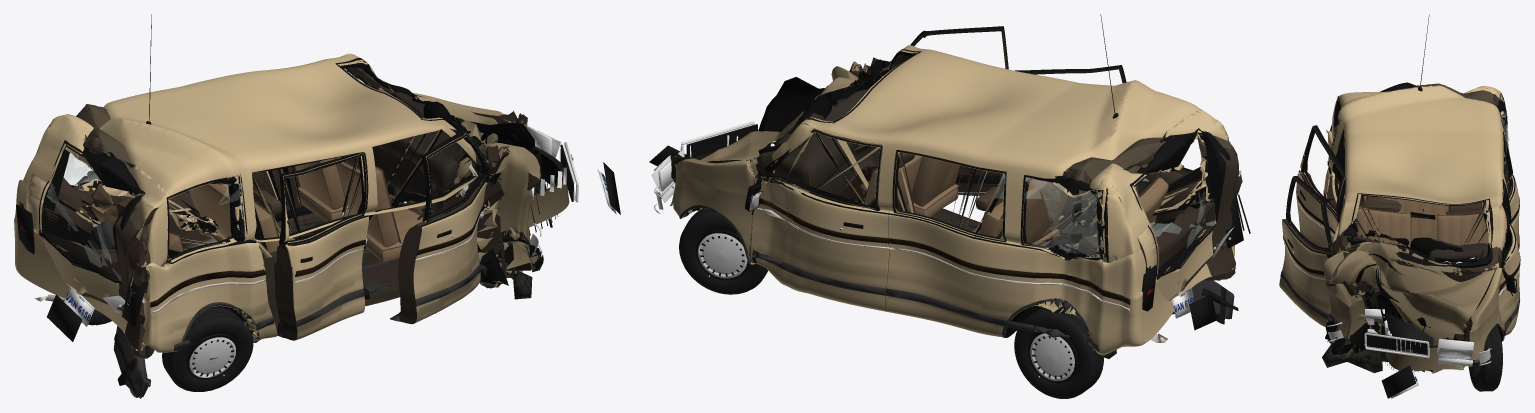
Rendered from minivan86_front_corner_R_d3_lod1.glb.
3 renders of one model, left to right at view 1: azimuth 30°, elevation 25°; view 2: azimuth 150°, elevation 25°; view 3: azimuth 270°, elevation 25°, orthographic. The views are drawn at different scales.
Visible parts, largest first — view 1: Body, Interior, Door_SR, Door_FR, Liftgate, Ends, Wheel_RR_mesh, Trim, Glass_Liftgate, Hood, Trim_FR, Trim_SR (+4 smaller); view 2: Body, Door_FL, Interior, Trim, Liftgate, Wheel_RL_mesh, Glass, Wheel_FL_mesh, Ends, Hood, Trim_FL, Glass_Liftgate (+4 smaller); view 3: Body, Hood, Interior, Door_FR, Ends, Door_SR, Glass, Trim, Door_FL, Wheel_FL_mesh, Engine, Trim_FR (+3 smaller).
Part boxes in pixels (x1=…): Body: x1=14, y1=53, x2=569, y2=358; Interior: x1=91, y1=74, x2=461, y2=308; Door_SR: x1=274, y1=152, x2=368, y2=340; Door_FR: x1=398, y1=128, x2=491, y2=324; Liftgate: x1=26, y1=115, x2=169, y2=312; Ends: x1=16, y1=126, x2=620, y2=341; Wheel_RR_mesh: x1=162, y1=308, x2=253, y2=391; Trim: x1=77, y1=14, x2=552, y2=351; Glass_Liftgate: x1=38, y1=140, x2=145, y2=283; Hood: x1=416, y1=96, x2=540, y2=190; Trim_FR: x1=390, y1=133, x2=501, y2=321; Trim_SR: x1=275, y1=153, x2=368, y2=337; Body: x1=670, y1=45, x2=1242, y2=355; Door_FL: x1=750, y1=128, x2=889, y2=311; Interior: x1=767, y1=89, x2=1168, y2=254; Trim: x1=679, y1=14, x2=1130, y2=353; Liftgate: x1=1096, y1=109, x2=1239, y2=300; Wheel_RL_mesh: x1=1014, y1=307, x2=1103, y2=398; Glass: x1=758, y1=49, x2=1112, y2=262; Wheel_FL_mesh: x1=679, y1=208, x2=768, y2=294; Ends: x1=649, y1=121, x2=1250, y2=330; Hood: x1=699, y1=66, x2=860, y2=210; Trim_FL: x1=745, y1=129, x2=889, y2=295; Glass_Liftgate: x1=1130, y1=128, x2=1230, y2=279; Body: x1=1323, y1=83, x2=1519, y2=371; Hood: x1=1326, y1=242, x2=1495, y2=373; Interior: x1=1356, y1=196, x2=1488, y2=263; Door_FR: x1=1279, y1=176, x2=1334, y2=326; Ends: x1=1327, y1=308, x2=1491, y2=398; Door_SR: x1=1296, y1=125, x2=1344, y2=248; Glass: x1=1329, y1=97, x2=1511, y2=268; Trim: x1=1323, y1=14, x2=1519, y2=370; Door_FL: x1=1498, y1=179, x2=1519, y2=335; Wheel_FL_mesh: x1=1468, y1=325, x2=1502, y2=391; Engine: x1=1377, y1=294, x2=1433, y2=371; Trim_FR: x1=1280, y1=177, x2=1333, y2=321.
Bounding box in the file's own units: 4.37 × 2.57 × 2.16.
33 materials, 5 textured.
